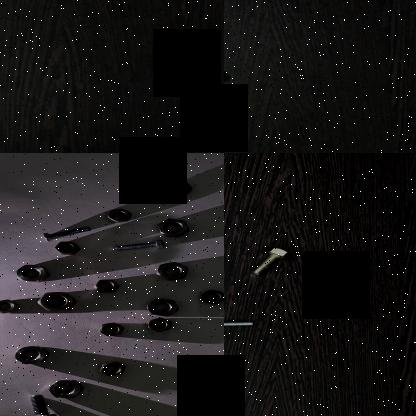Bolts: (246, 245, 294, 276), (39, 223, 103, 243), (112, 237, 171, 254), (25, 392, 64, 416), (224, 311, 259, 331)
NUTS: (35, 290, 78, 312), (46, 376, 84, 398), (13, 344, 51, 364), (153, 260, 193, 278), (156, 218, 194, 236), (146, 296, 180, 316), (17, 262, 51, 281), (93, 277, 121, 295), (51, 240, 83, 255), (198, 288, 224, 306), (164, 178, 192, 194), (99, 319, 126, 335), (98, 361, 128, 375), (146, 316, 176, 330), (106, 208, 132, 222), (0, 296, 21, 312), (224, 67, 234, 81)
